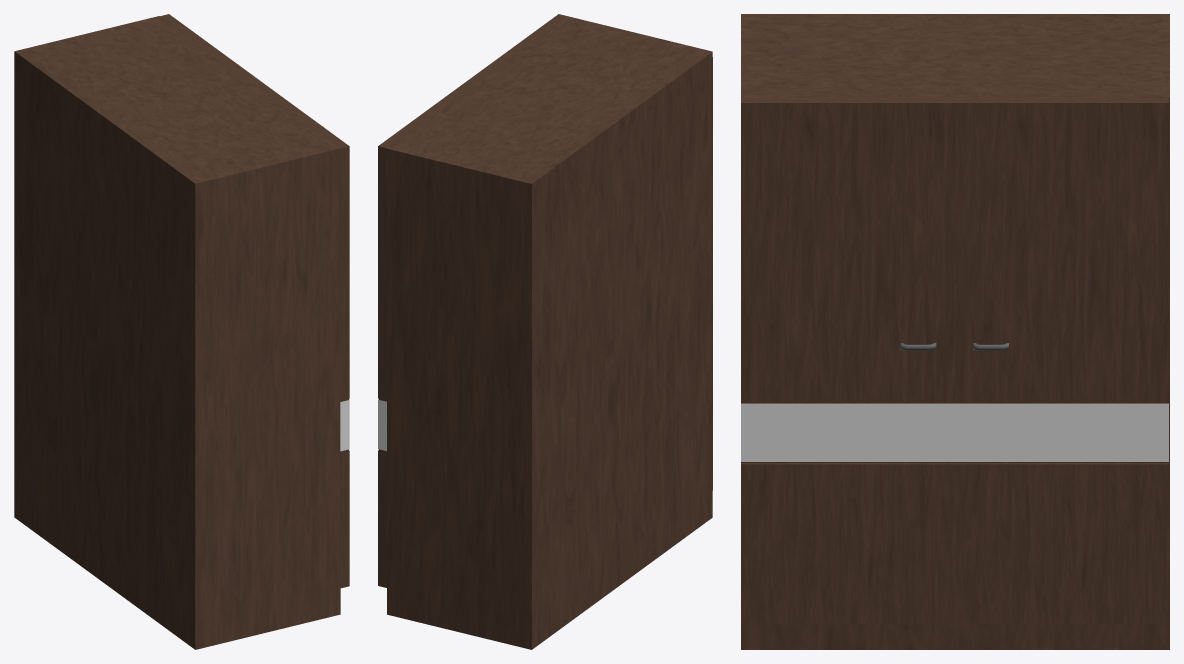
Rendered from Wardrobe3.fbx.
The picture shows the model from 3 angles, left to right: view 1: azimuth 30°, elevation 25°; view 2: azimuth 150°, elevation 25°; view 3: azimuth 270°, elevation 25°; orthographic projection. The views are drawn at different scales.
Visible parts, largest first — view 1: Wardrobe3, DrawerOne, DrawerTwo; view 2: Wardrobe3, DrawerTwo, DrawerOne; view 3: DrawerTwo, DrawerOne, Wardrobe3.
Boxes of the visible parts, x1,y1,x2,y2 form: Wardrobe3: [14, 16, 340, 649]; DrawerOne: [250, 80, 349, 588]; DrawerTwo: [160, 14, 258, 82]; Wardrobe3: [387, 16, 712, 649]; DrawerTwo: [378, 80, 476, 587]; DrawerOne: [469, 14, 567, 82]; DrawerTwo: [955, 98, 1168, 624]; DrawerOne: [741, 98, 954, 624]; Wardrobe3: [741, 14, 1169, 649].
Size of the model in its own units: 0.9533 by 2.69 by 1.89.
